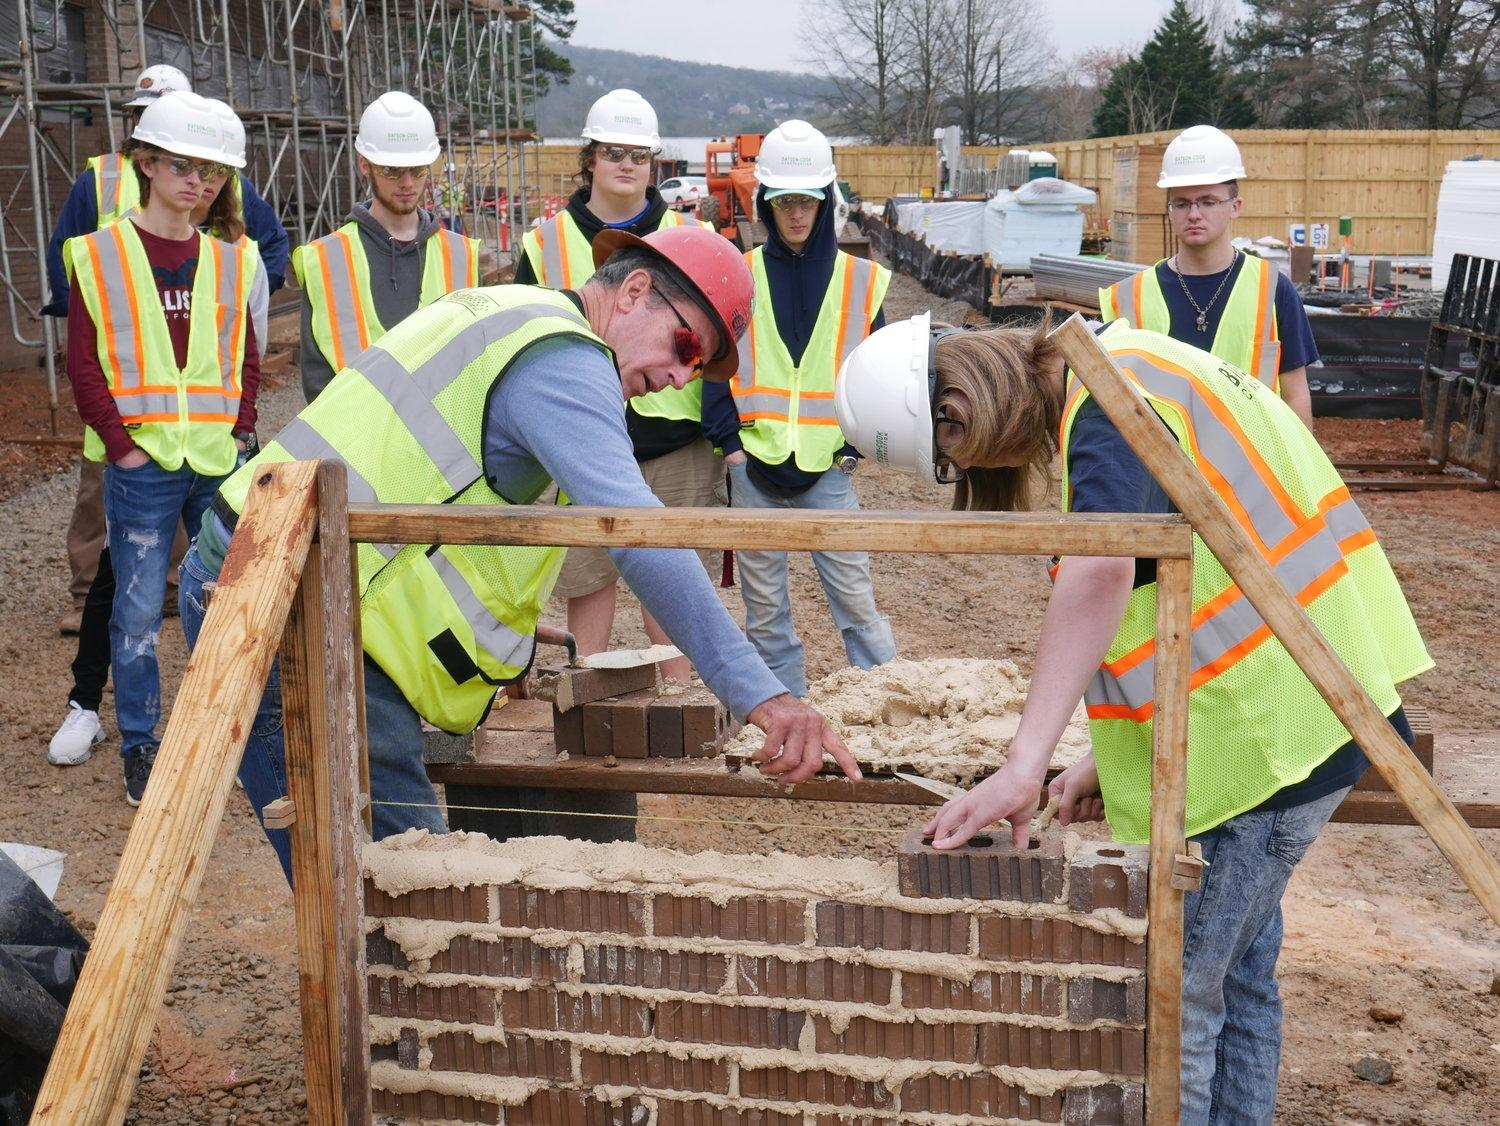helmet: (588, 215, 746, 383), (836, 306, 950, 483), (128, 93, 254, 172), (746, 118, 839, 206), (353, 90, 448, 172), (1153, 124, 1248, 193), (576, 89, 666, 154), (134, 60, 195, 96)
no_wear: (78, 222, 243, 468)
wear: (1056, 343, 1363, 828), (253, 290, 570, 698), (1092, 252, 1310, 383), (293, 229, 476, 368), (748, 242, 848, 466)
